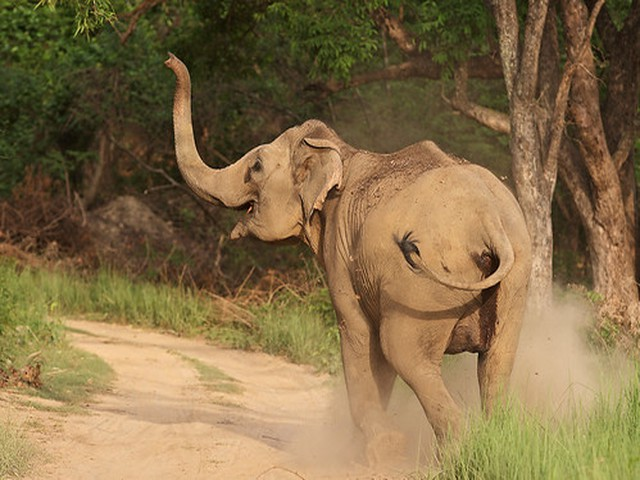Elephant: (164, 47, 534, 451)
